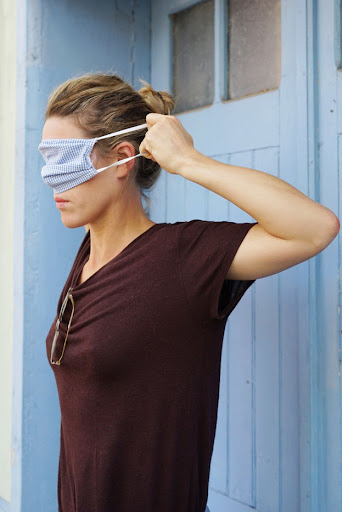with_incorrect_mask: (40, 134, 99, 220)
